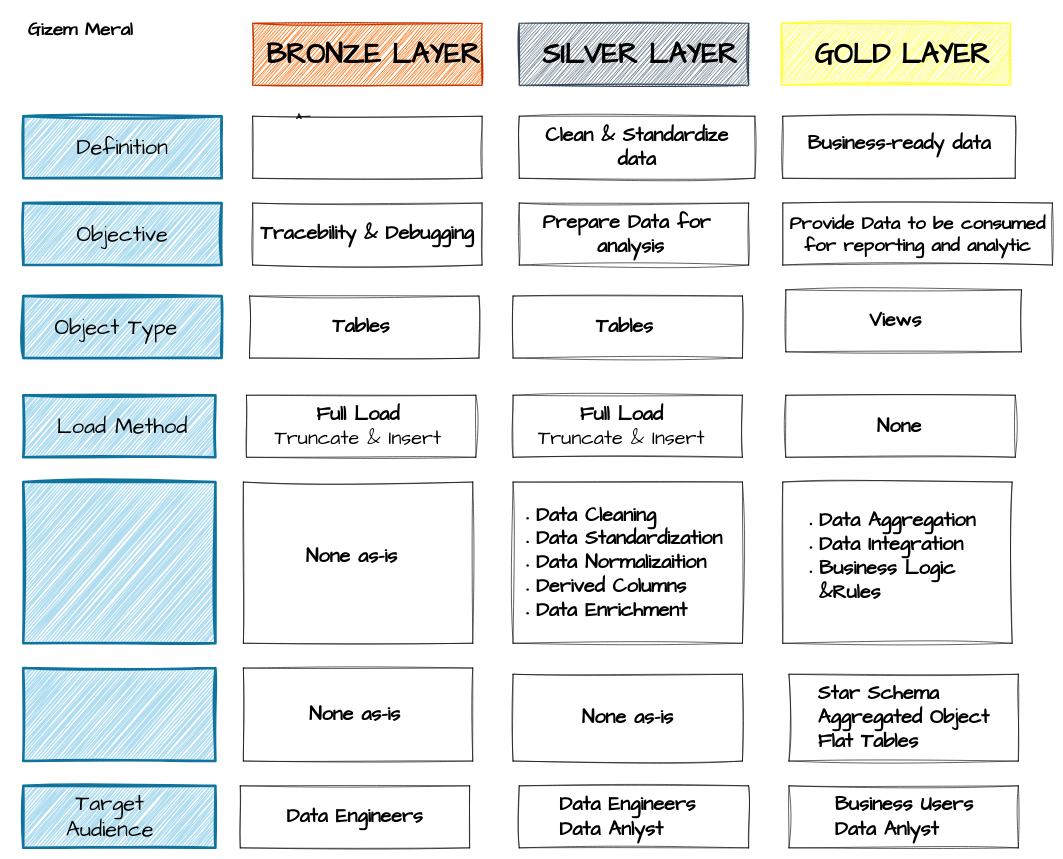
This 1063x859 diagram has some shape labels left out. Here are the shapes that lost their labels. From the top down, the centre of each, then its label:
At [367,147]: "Raw, unprossed data as-is from sources".
At [119,562]: "Data Transformation".
At [119,714]: "Data Modelling".
